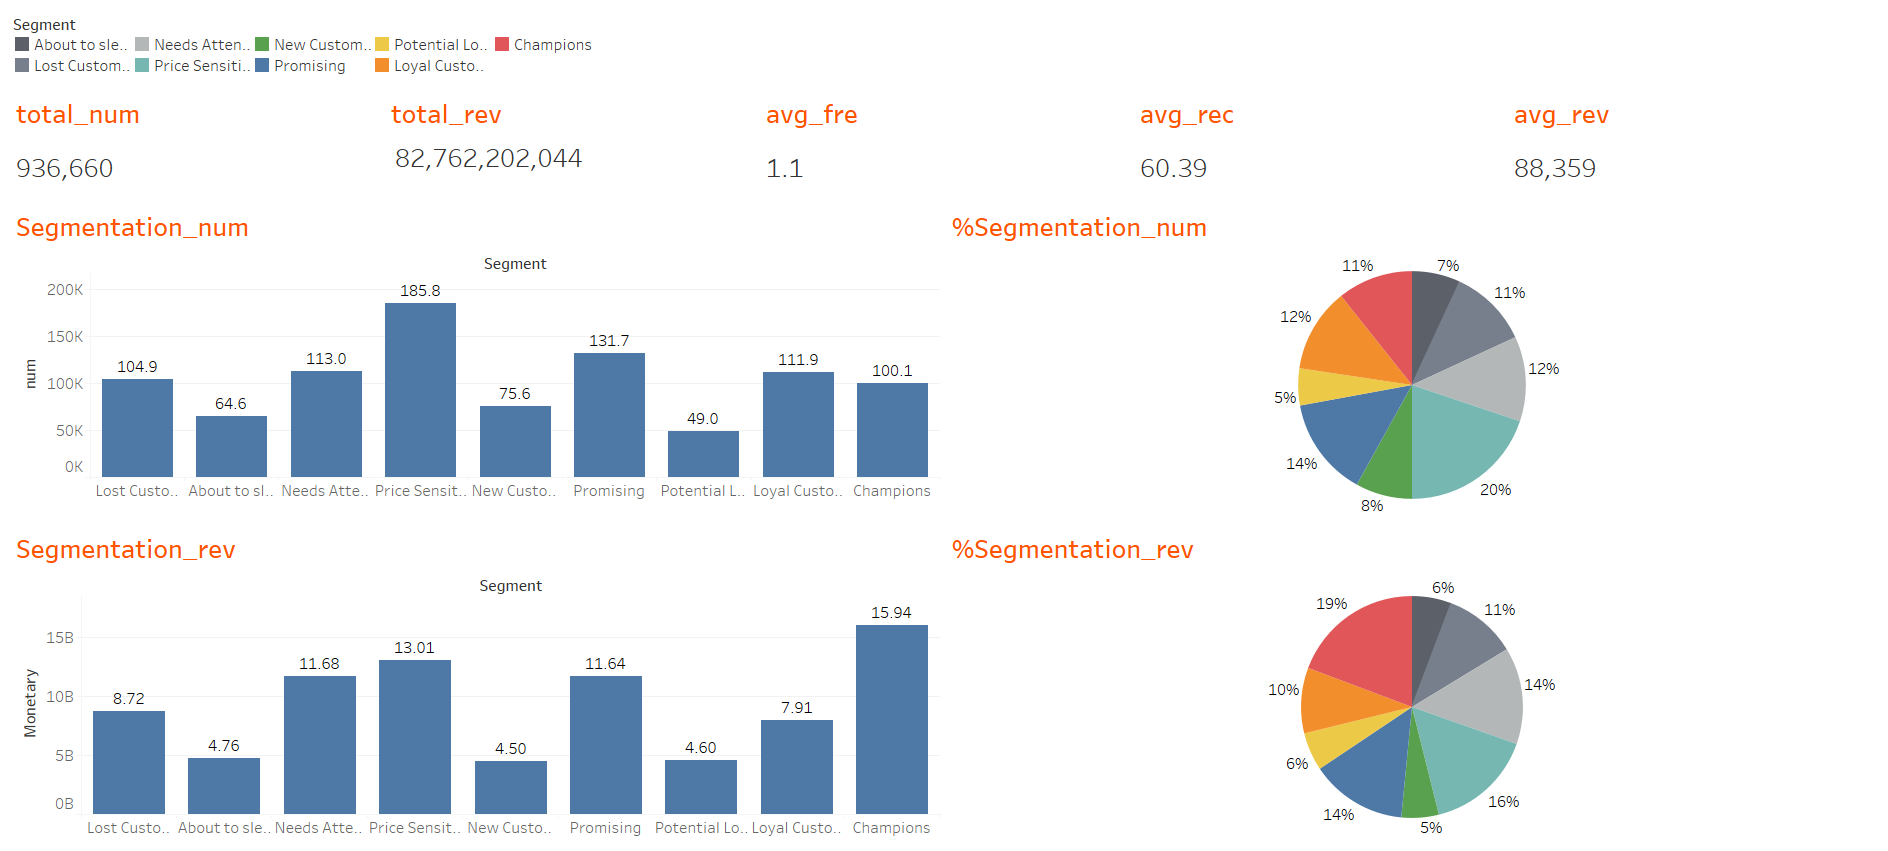

The dashboard page shown, as its layout file describes it:
{"tool":"tableau","page":{"name":"cs_dash","canvas":[1000,1000],"units":"permille","ordinal":0},"visuals":[{"type":"legend","title":"%Segmentation_num","param":"[federated.02nozxo1orw5by132gpi00x8krnr].[none:segment:nk]","box":[4.2,9.8,991.5,91.7]},{"type":"worksheet","title":"total_num","mark":"Automatic","box":[4.2,101.5,198.7,133.2]},{"type":"worksheet","title":"total_rev","mark":"Automatic","box":[203,101.5,198.2,133.2]},{"type":"worksheet","title":"avg_fre","mark":"Automatic","box":[401.2,101.5,198.2,133.2]},{"type":"worksheet","title":"avg_rec","mark":"Automatic","box":[599.4,101.5,198.2,133.2]},{"type":"worksheet","title":"avg_rev","mark":"Automatic","box":[797.6,101.5,198.2,133.2]},{"type":"worksheet","title":"Segmentation_num","mark":"Automatic","rows":["Calculation_1220475556345004034"],"cols":["segment"],"box":[4.2,234.5,495.8,377.9]},{"type":"worksheet","title":"%Segmentation_num","mark":"Pie","box":[500,234.5,495.8,377.9]},{"type":"worksheet","title":"Segmentation_rev","mark":"Automatic","rows":["monetary"],"cols":["segment"],"box":[4.2,612.3,495.8,377.9]},{"type":"worksheet","title":"%Segmentation_rev","mark":"Pie","box":[500,612.3,495.8,377.9]}]}

Visuals, with their boxes on the dashboard's canvas, which has no fixed pixel size, in thousandths of its width and height (x1, y1, x2, y2). These are canvas units, not pixel positions in the 1888x851 screenshot, which may show the page scaled, cropped or inside an application window:
"%Segmentation_num" legend: {"x1": 4, "y1": 10, "x2": 996, "y2": 102}
"total_num" worksheet: {"x1": 4, "y1": 102, "x2": 203, "y2": 235}
"total_rev" worksheet: {"x1": 203, "y1": 102, "x2": 401, "y2": 235}
"avg_fre" worksheet: {"x1": 401, "y1": 102, "x2": 599, "y2": 235}
"avg_rec" worksheet: {"x1": 599, "y1": 102, "x2": 798, "y2": 235}
"avg_rev" worksheet: {"x1": 798, "y1": 102, "x2": 996, "y2": 235}
"Segmentation_num" worksheet: {"x1": 4, "y1": 234, "x2": 500, "y2": 612}
"%Segmentation_num" worksheet (Pie marks): {"x1": 500, "y1": 234, "x2": 996, "y2": 612}
"Segmentation_rev" worksheet: {"x1": 4, "y1": 612, "x2": 500, "y2": 990}
"%Segmentation_rev" worksheet (Pie marks): {"x1": 500, "y1": 612, "x2": 996, "y2": 990}
